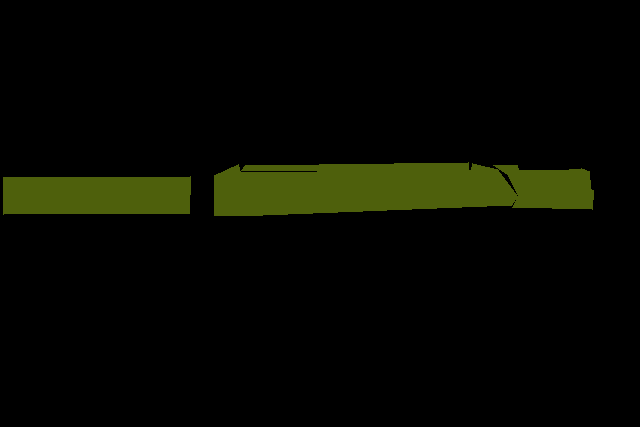Train: (3, 163, 517, 215), (240, 162, 593, 210)
